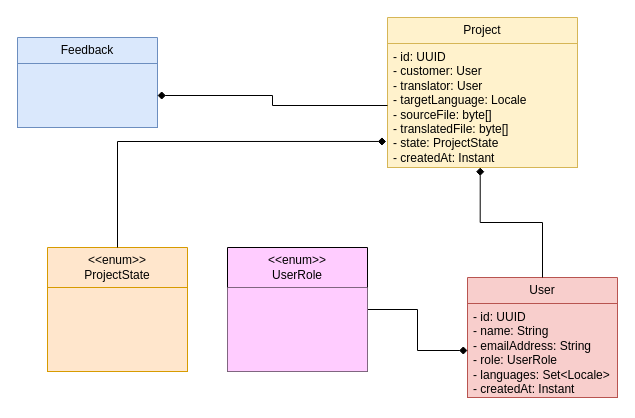
Image size: 635x418. Some labels were removed from this diagram. The centre of each missing label's shape, as x and y in pixels:
"- id: UUID - project: Project - text: String - createdAt: Instant" goes at (x=87, y=95).
"CREATED ASSIGNED COMPLETED APPROVED CLOSED" goes at (x=117, y=329).
"CUSTOMER TRANSLATOR ADMIN" goes at (x=297, y=329).
